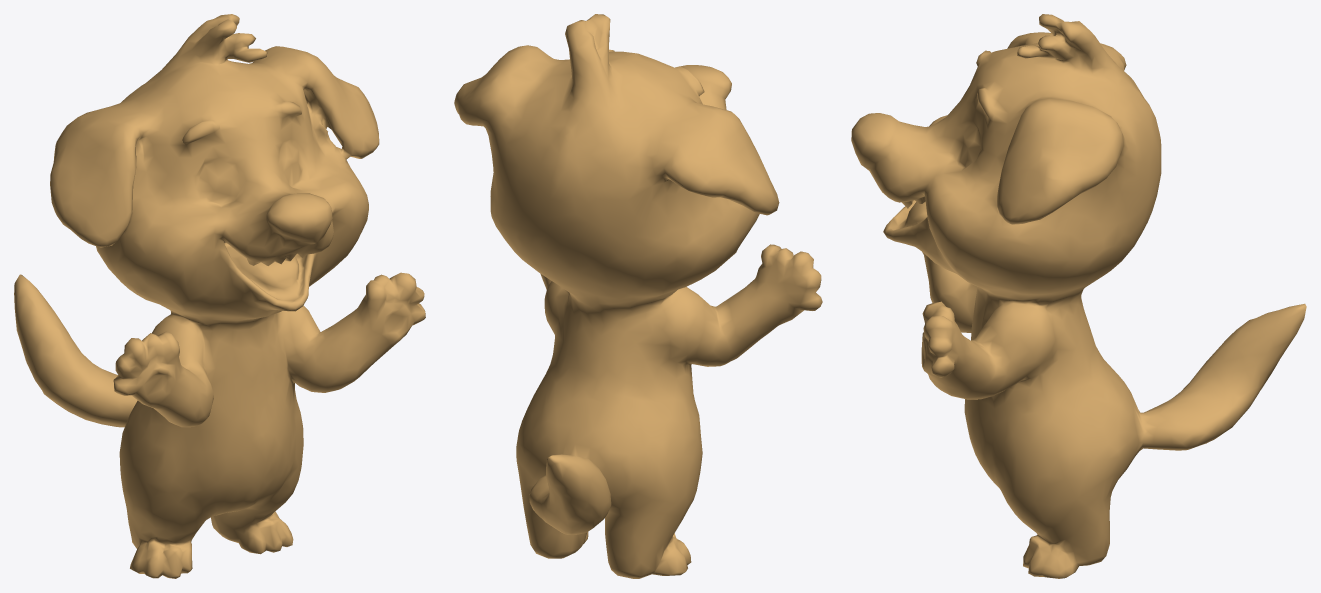
File: pet_happy_14d.glb
3 renders of one model, left to right at view 1: azimuth 30°, elevation 25°; view 2: azimuth 150°, elevation 25°; view 3: azimuth 270°, elevation 25°, orthographic.
Parts seen in each view (by area): view 1: Mesh1.0; view 2: Mesh1.0; view 3: Mesh1.0.
Part boxes in pixels (box(x1,y1,x2,y2)): Mesh1.0: box(14, 14, 425, 578); Mesh1.0: box(454, 14, 822, 578); Mesh1.0: box(851, 14, 1306, 578).
Bounding box in the file's own units: 1.24 × 2.01 × 1.55.
